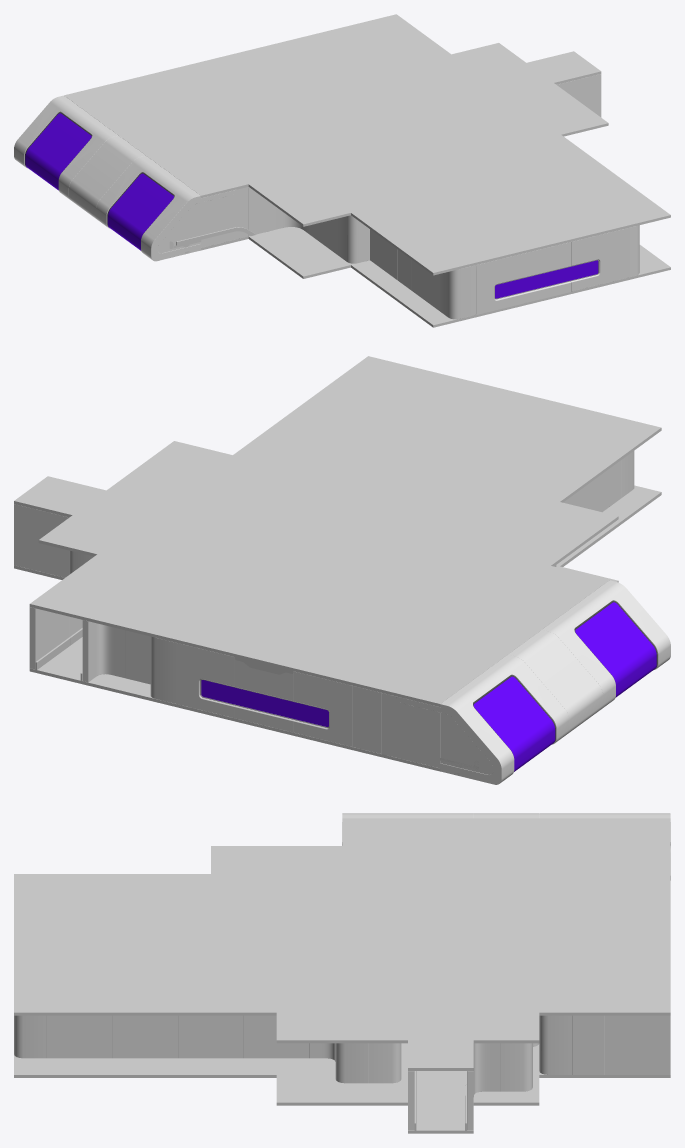
3 renders of one model, top to bottom at view 1: azimuth 30°, elevation 25°; view 2: azimuth 150°, elevation 25°; view 3: azimuth 270°, elevation 25°, orthographic. The views are drawn at different scales.
Visible parts, largest first — view 1: Plane.489, Cube_Plate.143, Plane.482; view 2: Plane.489, Cube_Plate.143, Plane.482; view 3: Plane.489, Cube_Plate.143, Plane.482.
Boxes of the visible parts, bbox=[...] form: Plane.489: bbox=[64, 14, 670, 275]; Cube_Plate.143: bbox=[14, 74, 639, 319]; Plane.482: bbox=[201, 227, 670, 327]; Plane.489: bbox=[14, 356, 661, 706]; Cube_Plate.143: bbox=[14, 451, 670, 784]; Plane.482: bbox=[14, 485, 661, 771]; Plane.489: bbox=[14, 818, 670, 1070]; Cube_Plate.143: bbox=[14, 813, 670, 1130]; Plane.482: bbox=[14, 1043, 670, 1133].
Bounding box in the file's own units: 4020 × 440 × 4002.
